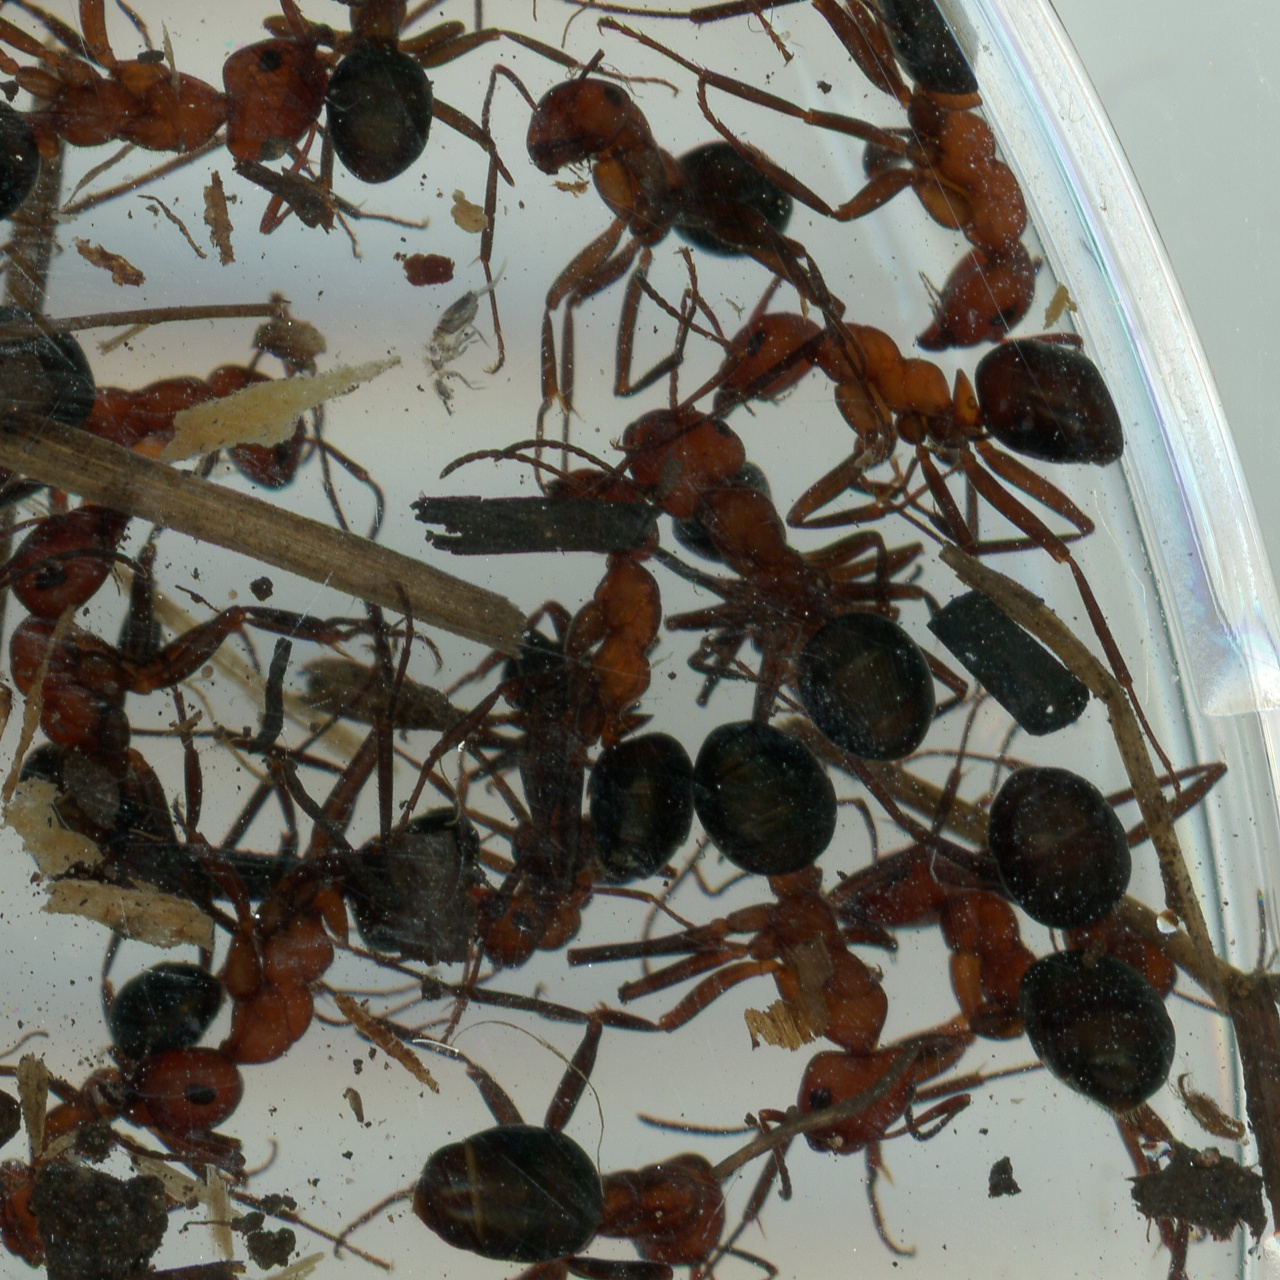arthropod: (409, 231, 1042, 908), (659, 266, 1198, 806), (489, 674, 985, 1247), (0, 478, 373, 934), (469, 43, 867, 414), (87, 784, 484, 1145), (680, 0, 1050, 356), (433, 435, 700, 890), (0, 0, 436, 257), (0, 290, 393, 545), (379, 1060, 778, 1280), (305, 0, 523, 200), (328, 0, 849, 79), (292, 1218, 855, 1280), (1145, 1044, 1265, 1175), (420, 248, 509, 420)
